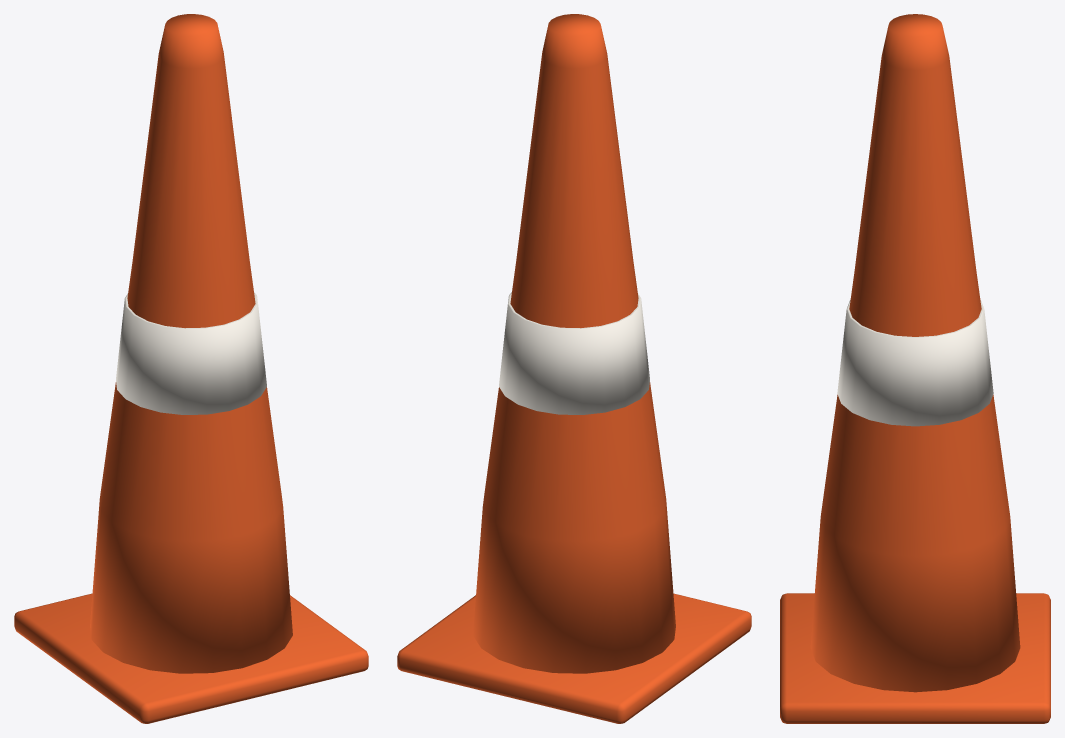
Rendered from prop_cone.glb.
The picture shows the model from 3 angles, left to right: view 1: azimuth 30°, elevation 25°; view 2: azimuth 150°, elevation 25°; view 3: azimuth 270°, elevation 25°; orthographic projection. The views are drawn at different scales.
Parts seen in each view (by area): view 1: prop_cone; view 2: prop_cone; view 3: prop_cone.
Boxes of the visible parts, x1,y1,x2,y2 form: prop_cone: (14, 14, 368, 723); prop_cone: (397, 14, 751, 723); prop_cone: (780, 14, 1050, 723).
Bounding box in the file's own units: 0.16 × 0.42 × 0.16.
